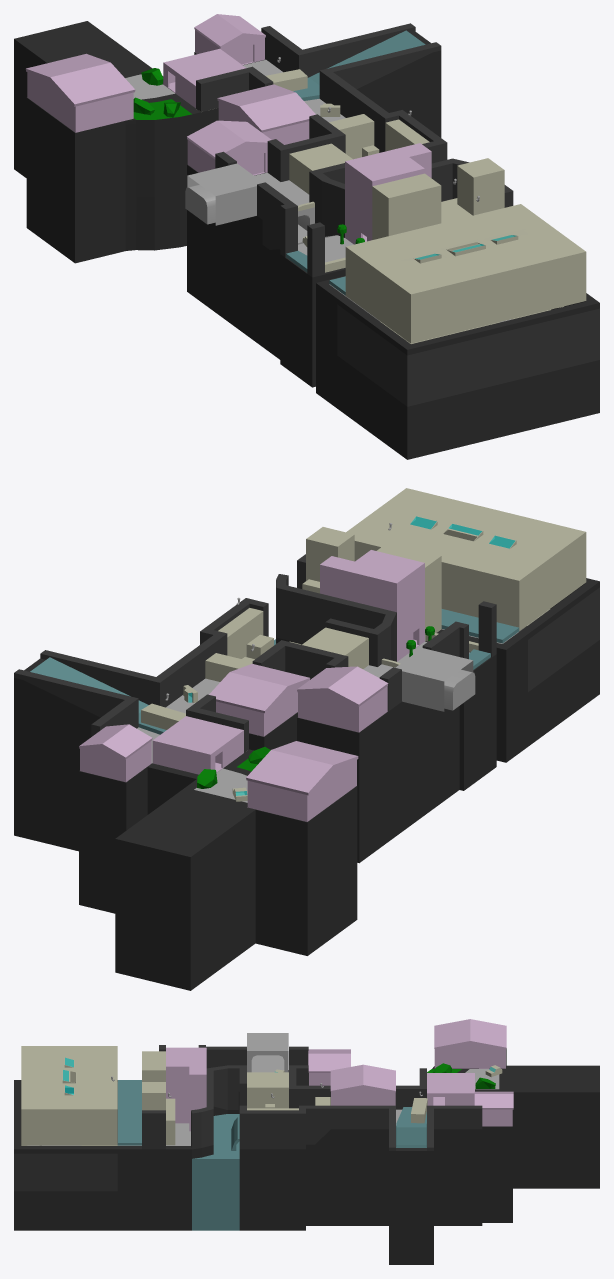
The model's file is Final Whitebox FBX.fbx.
3 views of the same model, one above another, from view 1: azimuth 30°, elevation 25°; view 2: azimuth 150°, elevation 25°; view 3: azimuth 270°, elevation 25° (orthographic). The views are drawn at different scales.
Visible parts, largest first — view 1: BaseShell, TopOfTheater1, TownWallPlaceholder1, BossArenaWall, PlaceholderHouseRoof (×4), Shop_RooftopClimb1, Roof1, Tunnel_that_leads_nowhere, PlaceholderHouse, Base, BlockedOffAlley_Flood1, Roof (+7 smaller); view 2: BaseShell, TownWallPlaceholder1, TopOfTheater1, PlaceholderHouseRoof (×4), Roof1, Shop_RooftopClimb1, BossArenaWall, Tunnel_that_leads_nowhere, PlaceholderHouse, Roof, PlaceholderHouse3, BlockedOffAlley_Flood1 (+7 smaller); view 3: BaseShell, TownWallPlaceholder1, TopOfTheater1, BlockedOffAlley_Flood1, PlaceholderHouseRoof (×4), BossArenaWall, Roof1, Shop_RooftopClimb1, Tunnel_that_leads_nowhere, LeakageSourceBuildingPlatform, PlaceholderHouse, Roof (+5 smaller).
Boxes of the visible parts, x1,y1,x2,y2 form: BaseShell: (14,21,599,459); TopOfTheater1: (329,204,586,343); TownWallPlaceholder1: (196,23,513,277); BossArenaWall: (337,302,599,406); PlaceholderHouseRoof (×4): (25,14,315,159); Shop_RooftopClimb1: (345,158,504,244); Roof1: (345,143,431,240); Tunnel_that_leads_nowhere: (185,163,263,225); PlaceholderHouse: (27,72,133,132); Base: (125,60,380,321); BlockedOffAlley_Flood1: (293,30,425,159); Roof: (163,48,246,90); BaseShell: (14,578,599,990); TownWallPlaceholder1: (14,554,496,752); TopOfTheater1: (346,488,586,643); PlaceholderHouseRoof (×4): (79,663,388,795); Roof1: (320,550,424,644); Shop_RooftopClimb1: (302,527,441,661); BossArenaWall: (528,587,599,691); Tunnel_that_leads_nowhere: (395,648,475,711); PlaceholderHouse: (247,759,356,821); Roof: (152,716,243,759); PlaceholderHouse3: (298,686,387,732); BlockedOffAlley_Flood1: (30,639,275,734); BaseShell: (14,1048,599,1264); TownWallPlaceholder1: (142,1045,482,1150); TopOfTheater1: (21,1046,141,1145); BlockedOffAlley_Flood1: (192,1097,426,1230); PlaceholderHouseRoof (×4): (308,1019,513,1109); BossArenaWall: (14,1087,117,1191); Roof1: (166,1047,206,1118); Shop_RooftopClimb1: (142,1051,190,1145); Tunnel_that_leads_nowhere: (247,1033,288,1072); LeakageSourceBuildingPlatform: (247,1072,288,1108); PlaceholderHouse: (434,1049,505,1068); Roof: (427,1073,474,1096).
Bounding box in the file's own units: 67.17 × 35.69 × 137.
